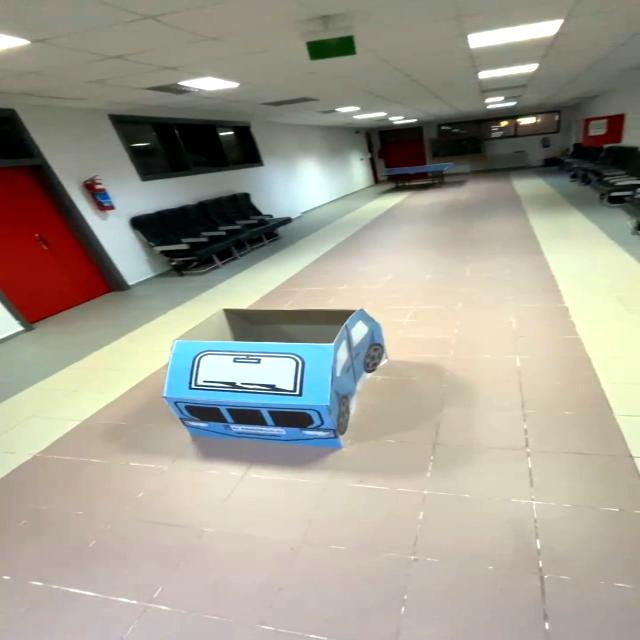blue_car: (150, 298, 409, 464)
